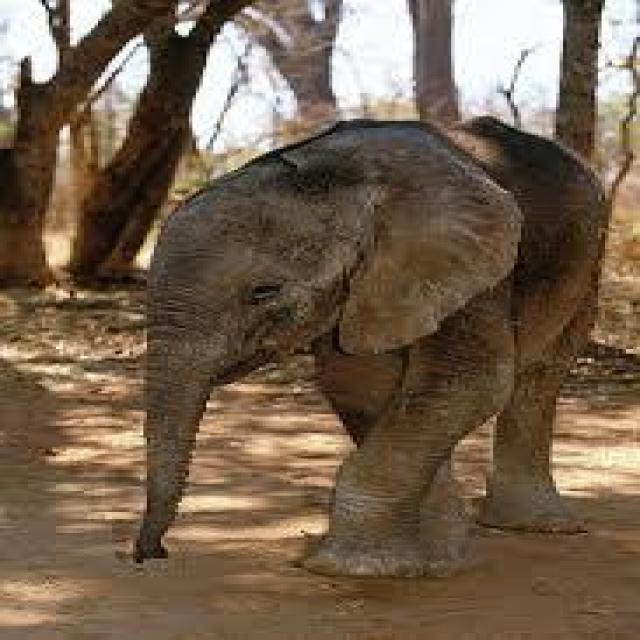Elephant: (140, 107, 626, 569)
